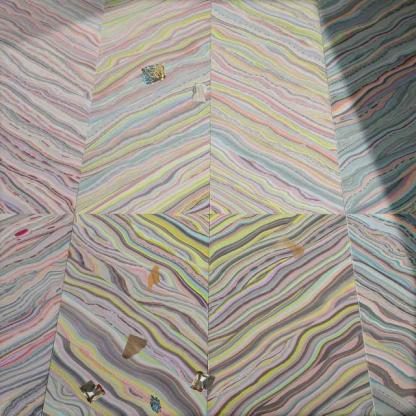dirty: (120, 332, 148, 362), (188, 368, 218, 394), (139, 61, 168, 87), (78, 378, 106, 404), (186, 81, 210, 105), (144, 392, 163, 416)
liquid: (271, 232, 306, 260), (146, 266, 160, 290)
